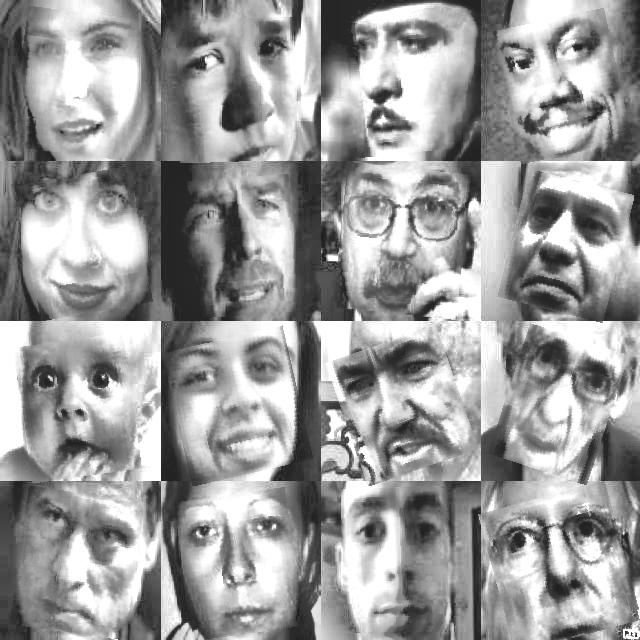angry: (334, 332, 469, 478), (14, 489, 140, 636), (346, 10, 452, 156)
fear: (486, 487, 633, 640), (498, 330, 620, 479), (18, 336, 137, 480)
happy: (169, 331, 307, 480), (500, 13, 626, 159), (22, 171, 148, 317), (15, 9, 135, 157)
neutral: (336, 165, 468, 317), (178, 490, 300, 638), (342, 487, 448, 633)
sad: (504, 174, 627, 318), (177, 17, 297, 162), (180, 176, 296, 318)
